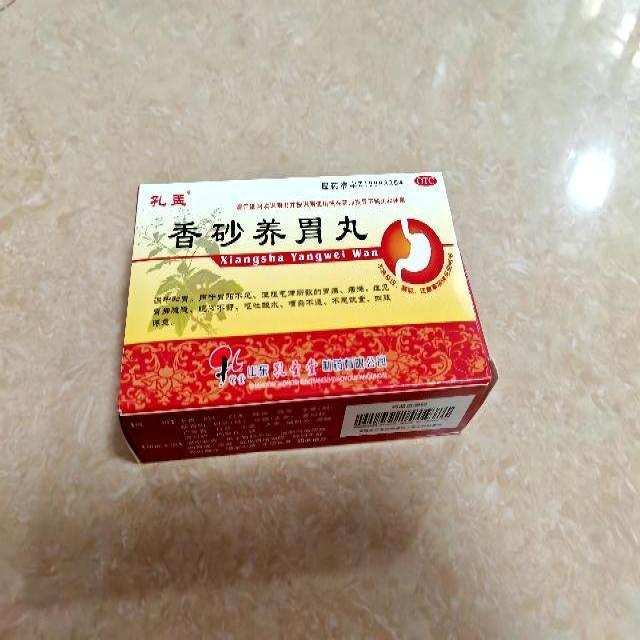box: (117, 171, 493, 466)
